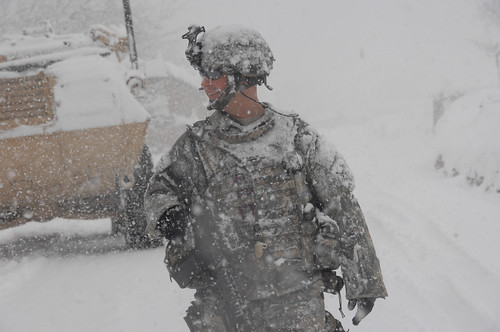soldier: (140, 26, 382, 327)
tank: (1, 44, 164, 246)
